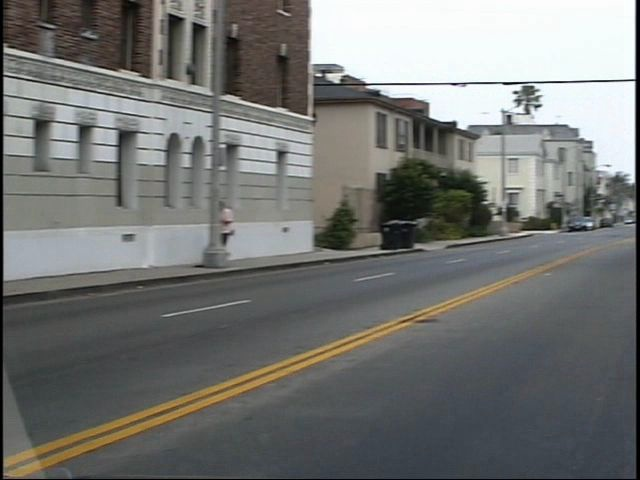person: (224, 190, 259, 265)
